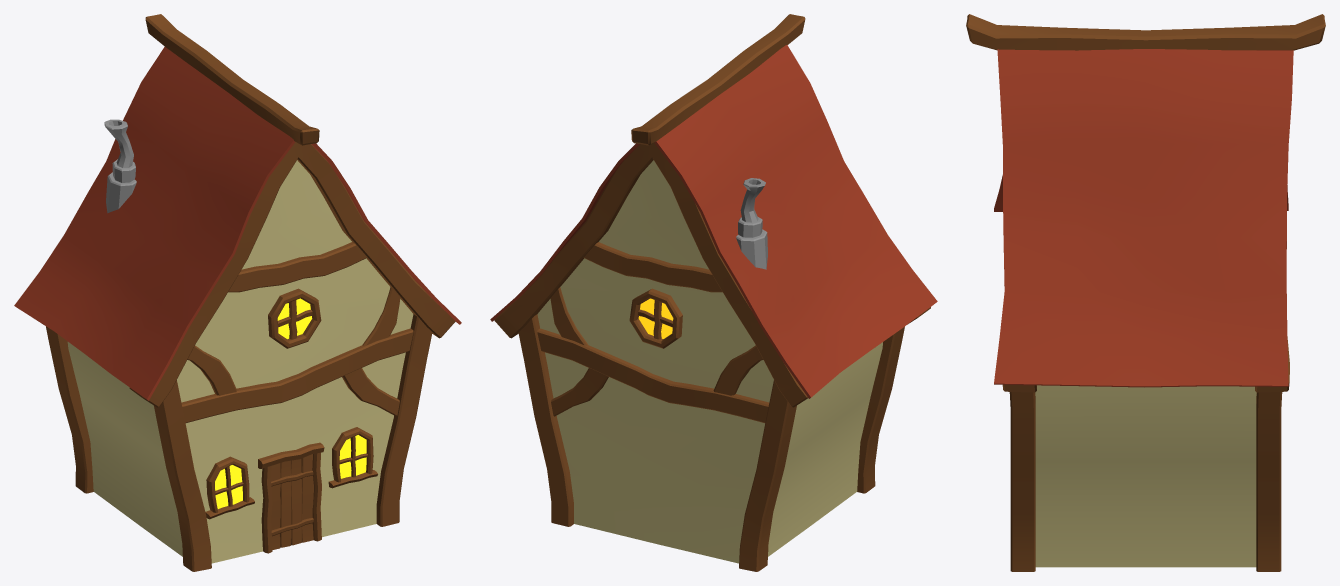
Rendered from domekFO.fbx.
3 views of the same model, side by side, from view 1: azimuth 30°, elevation 25°; view 2: azimuth 150°, elevation 25°; view 3: azimuth 270°, elevation 25° (orthographic). The views are drawn at different scales.
Visible parts, largest first — view 1: Plane; view 2: Plane; view 3: Plane.
Part boxes in pixels (x1,y1,x2,y2): Plane: [14, 14, 461, 571]; Plane: [490, 14, 937, 571]; Plane: [966, 14, 1325, 571].
Bounding box in the file's own units: 337 × 435 × 288.
